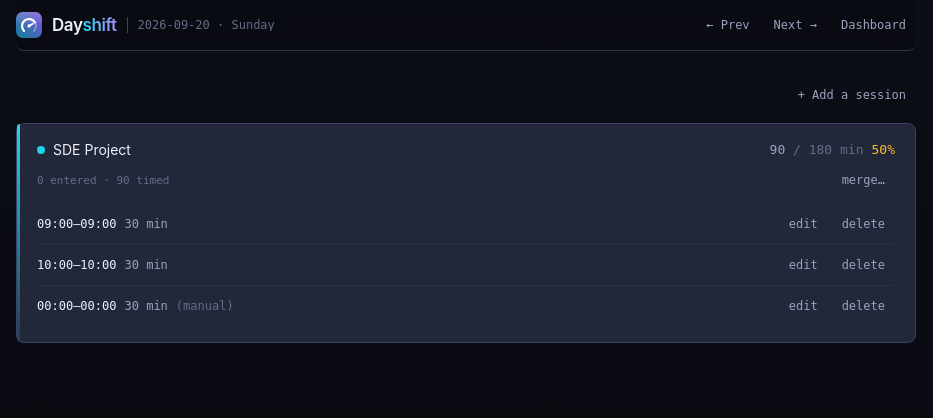
Test case: DayView undo › shows why an undo was refused and keeps it on screen
Click the button "delete" in the row of "–09:00". click: click(863, 224)
box: [832,212,895,236]
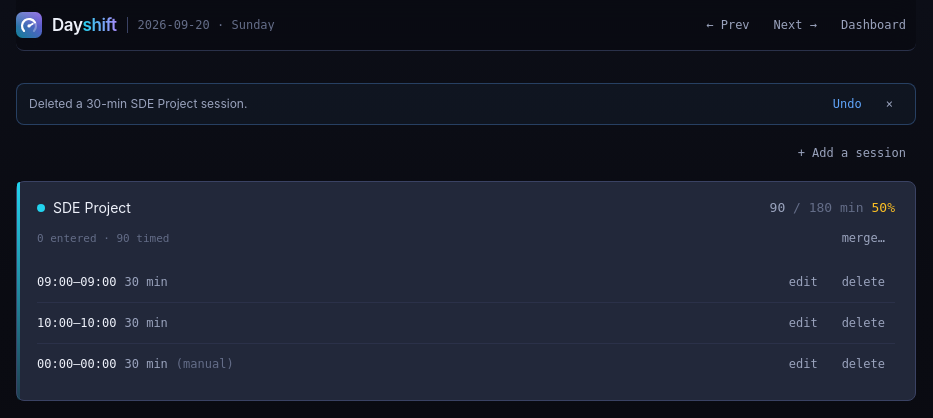
Click the button "Undo". click: click(847, 104)
box: [823,92,872,116]
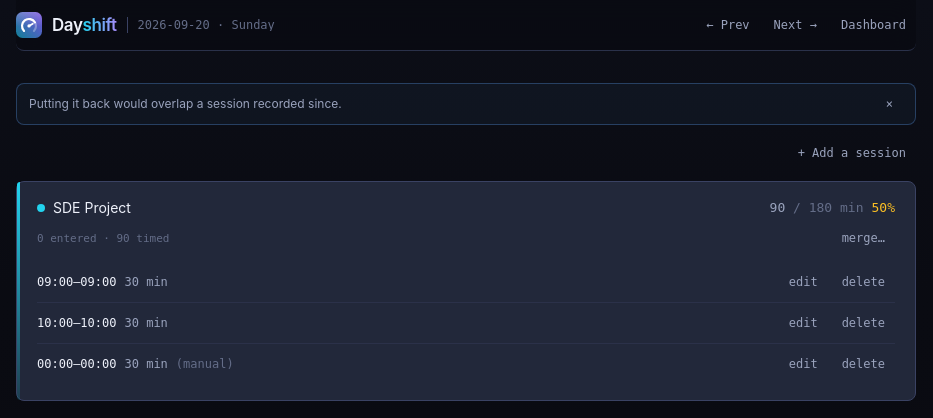
Check: the text "Putting it back would overlap a session recorded since." is shown, box [29,95,342,113]
Check: the button "Undo" is gone
